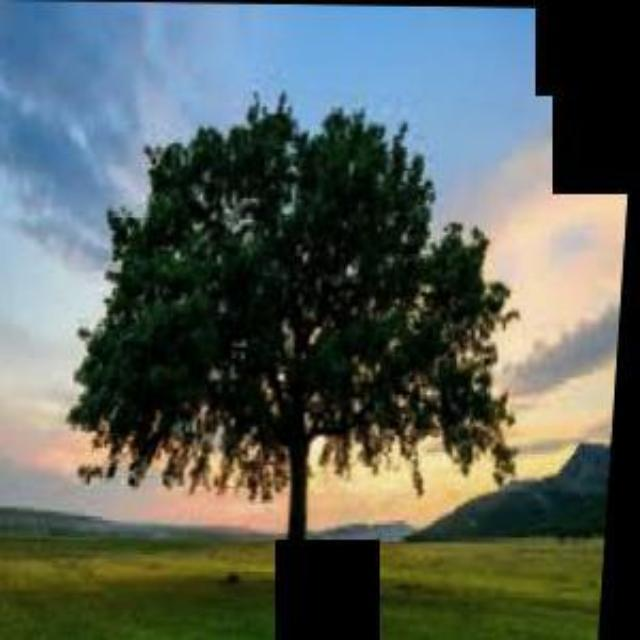tree: (62, 80, 538, 584)
